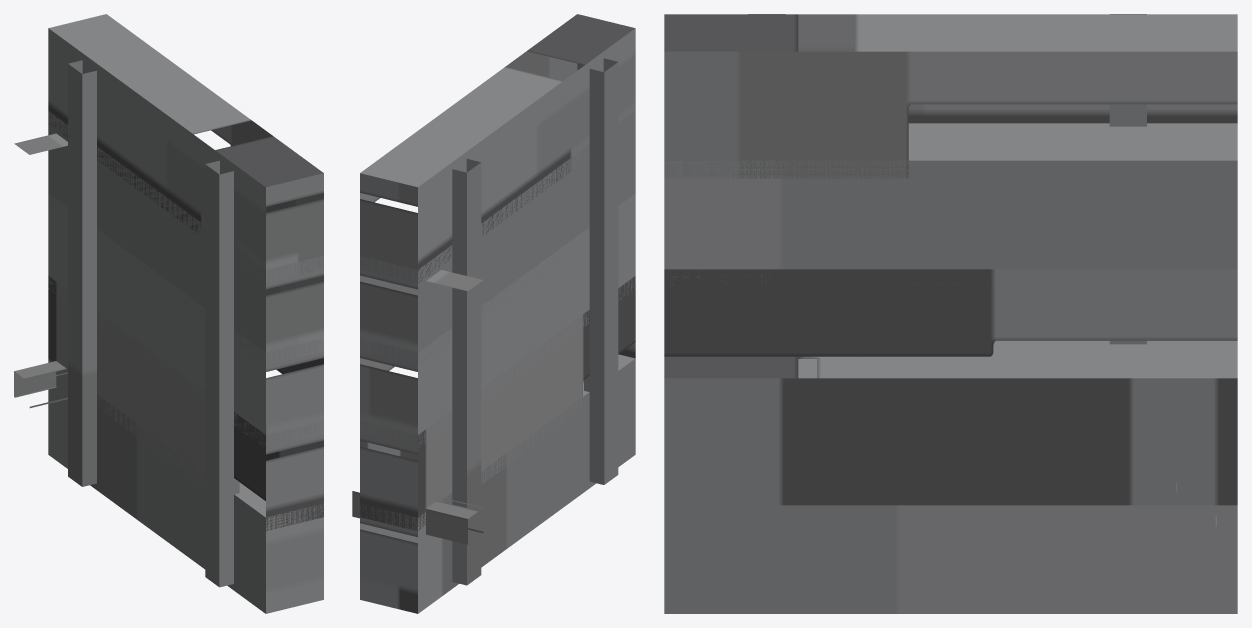
The picture shows the model from 3 angles, left to right: view 1: azimuth 30°, elevation 25°; view 2: azimuth 150°, elevation 25°; view 3: azimuth 270°, elevation 25°; orthographic projection. The views are drawn at different scales.
Size of the model in its own units: 0.2576 by 0.9093 by 0.84.
